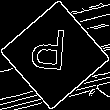P_S: (34, 28, 76, 82)
